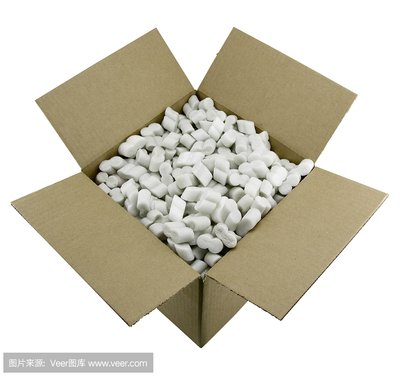5/可回收垃圾/泡沫: (10, 28, 389, 347)
